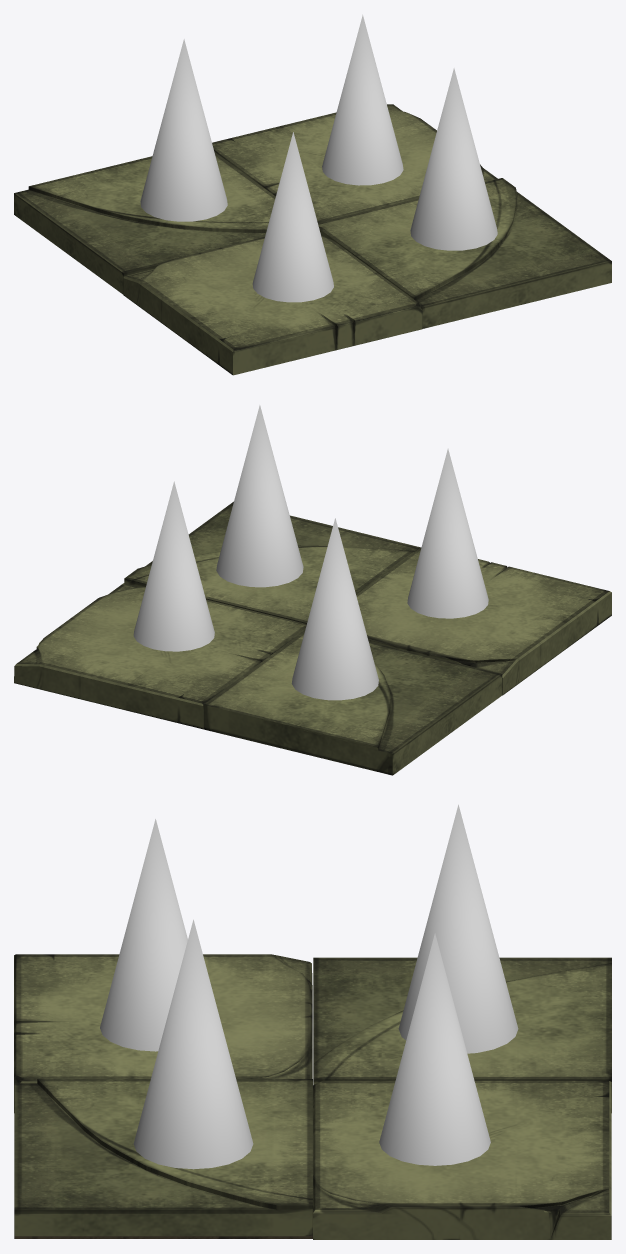
Rendered from spike floor (1).fbx.
The picture shows the model from 3 angles, top to bottom: view 1: azimuth 30°, elevation 25°; view 2: azimuth 150°, elevation 25°; view 3: azimuth 270°, elevation 25°; orthographic projection. The views are drawn at different scales.
Visible parts, largest first — view 1: polySurface155; view 2: polySurface155; view 3: polySurface155.
Boxes of the visible parts, x1,y1,x2,y2 form: polySurface155: [14, 14, 611, 375]; polySurface155: [14, 405, 611, 775]; polySurface155: [14, 804, 611, 1239].
Bounding box in the file's own units: 102 × 48.6 × 102.
